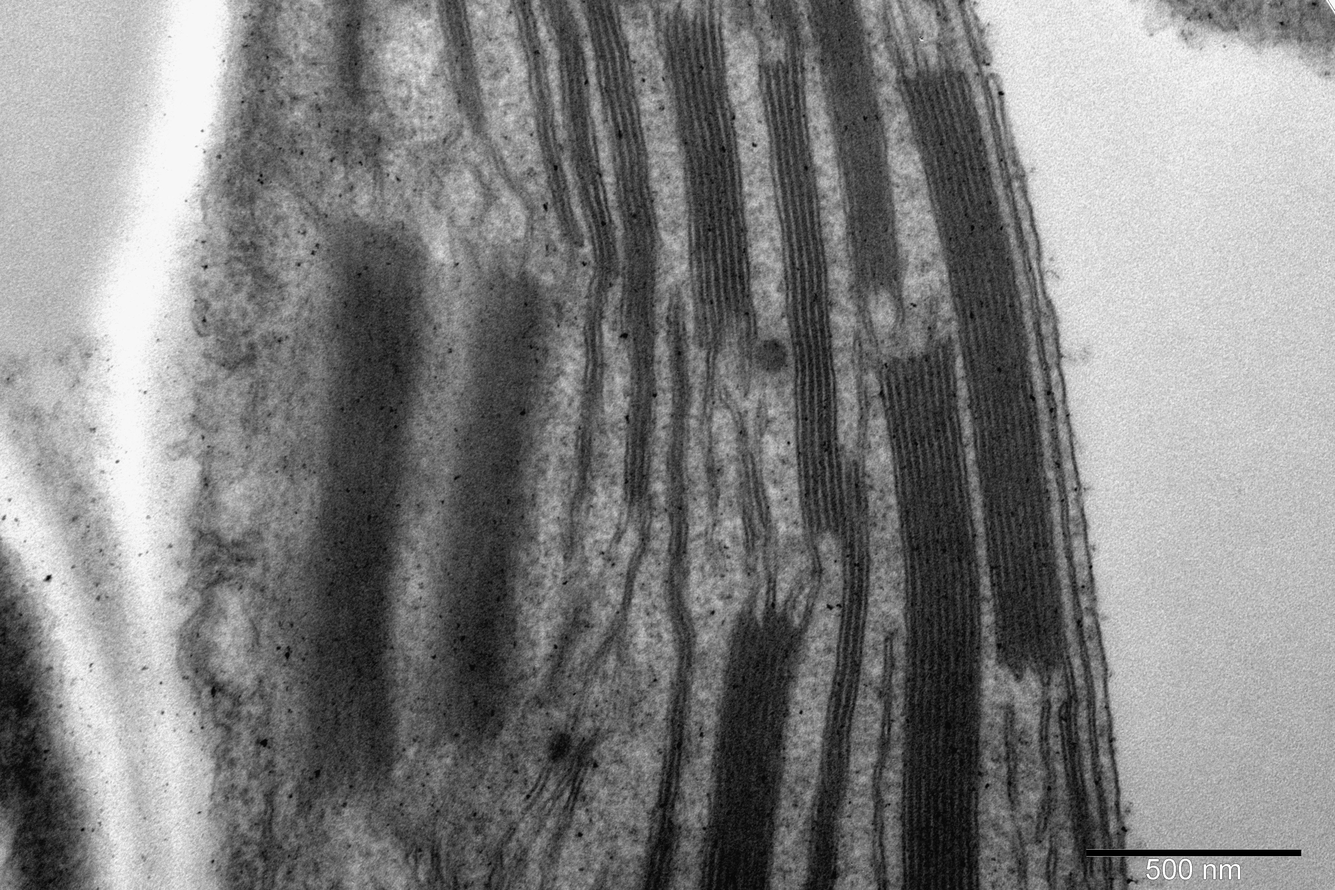granum: (891, 66, 1076, 675), (284, 220, 432, 816), (871, 345, 987, 890), (427, 255, 549, 754), (755, 55, 874, 544), (570, 0, 665, 505), (646, 0, 762, 357), (690, 605, 812, 890), (800, 0, 907, 300), (799, 537, 875, 890), (535, 0, 623, 298), (323, 0, 380, 177), (427, 0, 487, 127), (631, 805, 686, 890), (734, 445, 776, 549), (763, 1, 802, 42)
